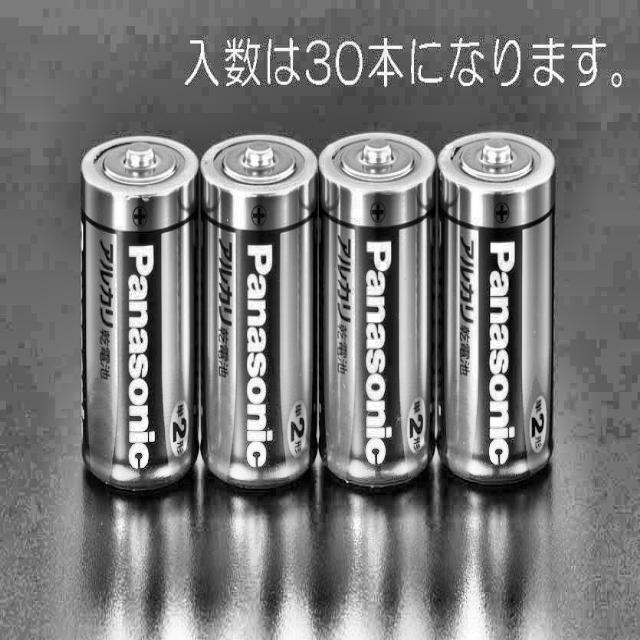drycell: (435, 130, 564, 488), (312, 128, 438, 491), (76, 132, 198, 498), (200, 132, 318, 491)
